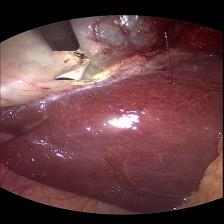Hook: (54, 50, 92, 79)
